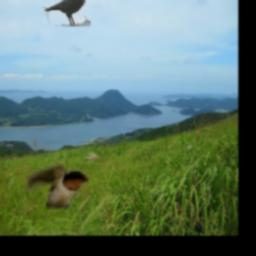Crow: (44, 0, 93, 27)
Swallow: (26, 165, 90, 210)
